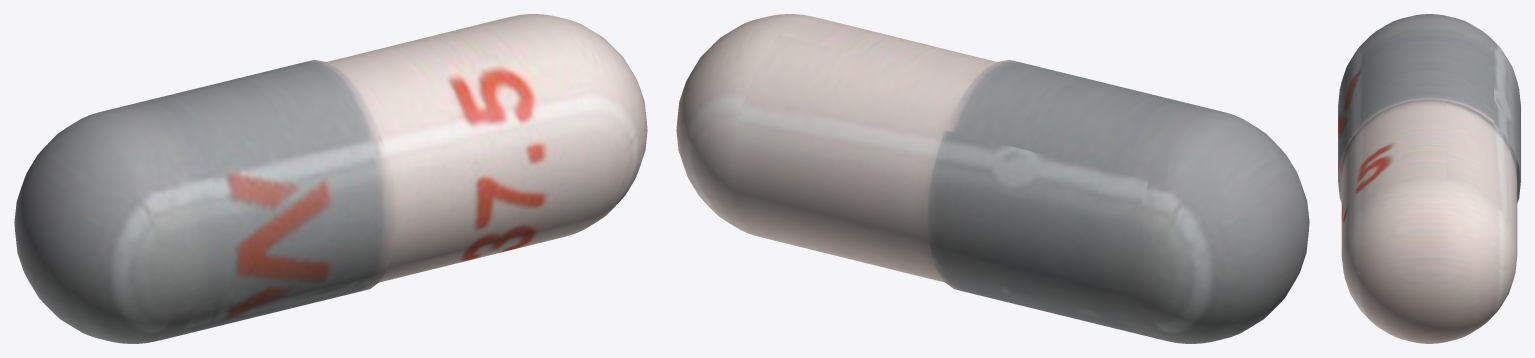
The picture shows the model from 3 angles, left to right: view 1: azimuth 30°, elevation 25°; view 2: azimuth 150°, elevation 25°; view 3: azimuth 270°, elevation 25°; orthographic projection. The views are drawn at different scales.
Parts seen in each view (by area): view 1: 球體; view 2: 球體; view 3: 球體.
Boxes of the visible parts, bbox=[...] form: 球體: bbox=[14, 14, 647, 343]; 球體: bbox=[676, 14, 1309, 343]; 球體: bbox=[1338, 14, 1520, 343].
Size of the model in its own units: 2.93 by 1 by 1.
